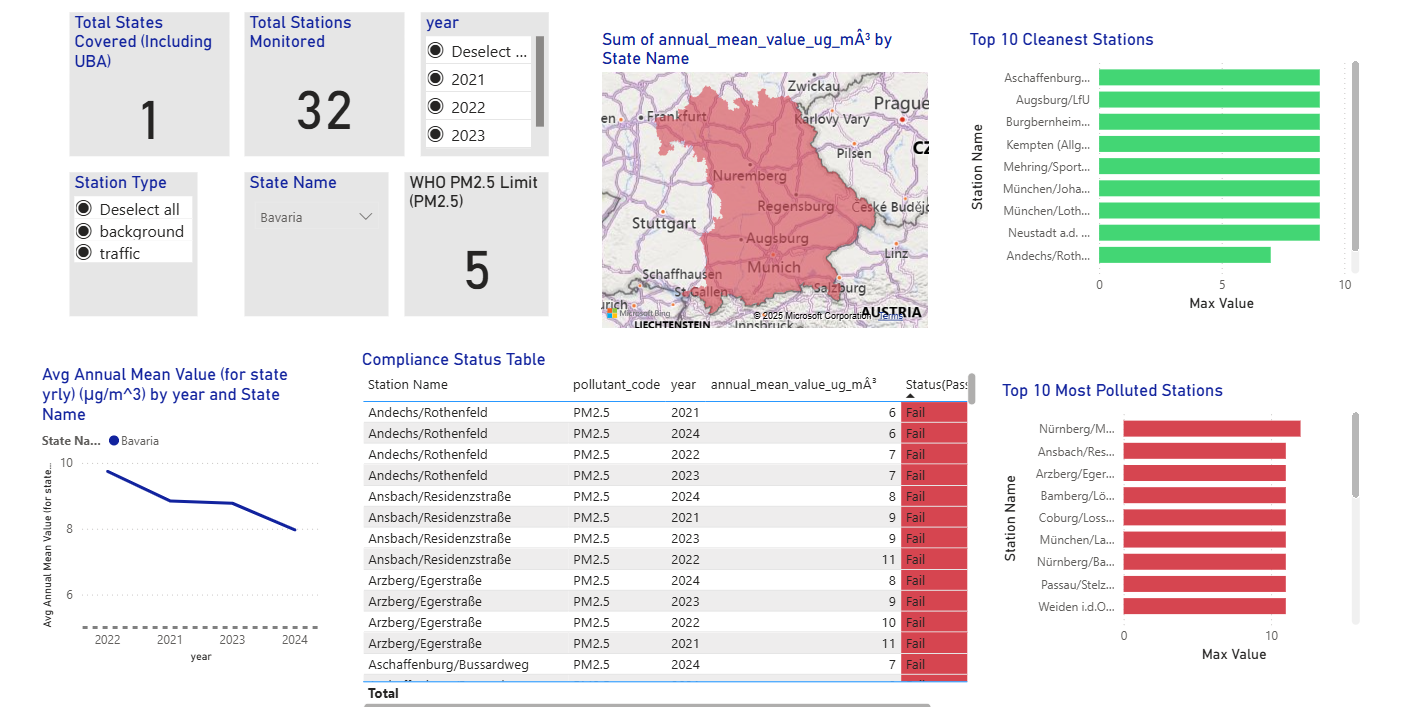

Layout of this report page (visuals, bound fields, positions):
{"tool":"powerbi","page":{"name":"Page 1","canvas":[2000,721],"ordinal":0},"visuals":[{"type":"card","title":"Total States Covered (Including UBA)","fields":{"Values":["States.Total States Covered"]},"box":[112,16,128,144],"z":0},{"type":"card","title":"Total Stations Monitored","fields":{"Values":["Stations.Total Stations Monitored"]},"box":[256,16,112,144],"z":1000},{"type":"filledMap","fields":{"Category":["States.State Name"]},"box":[592,32,384,304],"z":3000},{"type":"actionButton","box":[0,0,100,40],"z":4000},{"type":"tableEx","title":"Compliance Status Table","fields":{"Values":["Stations.Station Name","Air_Quality_Data.pollutant_code","Air_Quality_Data.year","Air_Quality_Data.annual_mean_value_ug_mÂ³","Air_Quality_Data.Status(Pass/Fail)"]},"box":[400,352,624,368],"z":5000},{"type":"lineChart","fields":{"Category":["Air_Quality_Data.year"],"Series":["States.State Name"],"Y":["Air_Quality_Data.Avg Annual Mean Value (for state yrly) (μg/m^3)"]},"box":[80,368,288,304],"z":6000},{"type":"clusteredBarChart","title":"Top 10 Most Polluted Stations","fields":{"Y":["Air_Quality_Data.Max Value"],"Category":["Stations.Station Name"]},"box":[1056,416,368,304],"z":7000},{"type":"clusteredBarChart","title":"Top 10 Cleanest Stations","fields":{"Y":["Air_Quality_Data.Max Value"],"Category":["Stations.Station Name"]},"box":[1008,32,400,288],"z":8000},{"type":"listSlicer","fields":{"Values":["Air_Quality_Data.year"]},"box":[384,16,128,144],"z":9000},{"type":"listSlicer","fields":{"Values":["Stations.Station Type"]},"box":[112,176,128,144],"z":10000},{"type":"slicer","title":"State Name","fields":{"Values":["States.State Name"]},"box":[256,176,144,144],"z":11000},{"type":"card","title":"WHO PM2.5 Limit (PM2.5)","fields":{"Values":["Air_Quality_Data.PM2.5_Limit_WHO_2021 for Pass"]},"box":[416,176,112,144],"z":11001},{"type":"slicer","title":"WHO Status","fields":{"Values":["Air_Quality_Data.Status(Pass/Fail)"]},"box":[1632,224,112,144],"z":11002}]}

Visuals, with their boxes on the page's 2000x721 design canvas (x1, y1, x2, y2). These are canvas units, not pixel positions in the 1409x707 screenshot, which may show the page scaled, cropped or inside an application window:
"Total States Covered (Including UBA)" card: 112, 16, 240, 160
"Total Stations Monitored" card: 256, 16, 368, 160
filledMap - States.State Name: 592, 32, 976, 336
actionButton: 0, 0, 100, 40
"Compliance Status Table" tableEx: 400, 352, 1024, 720
lineChart - Air_Quality_Data.year x States.State Name: 80, 368, 368, 672
"Top 10 Most Polluted Stations" clusteredBarChart: 1056, 416, 1424, 720
"Top 10 Cleanest Stations" clusteredBarChart: 1008, 32, 1408, 320
listSlicer - Air_Quality_Data.year: 384, 16, 512, 160
listSlicer - Stations.Station Type: 112, 176, 240, 320
"State Name" slicer: 256, 176, 400, 320
"WHO PM2.5 Limit (PM2.5)" card: 416, 176, 528, 320
"WHO Status" slicer: 1632, 224, 1744, 368
